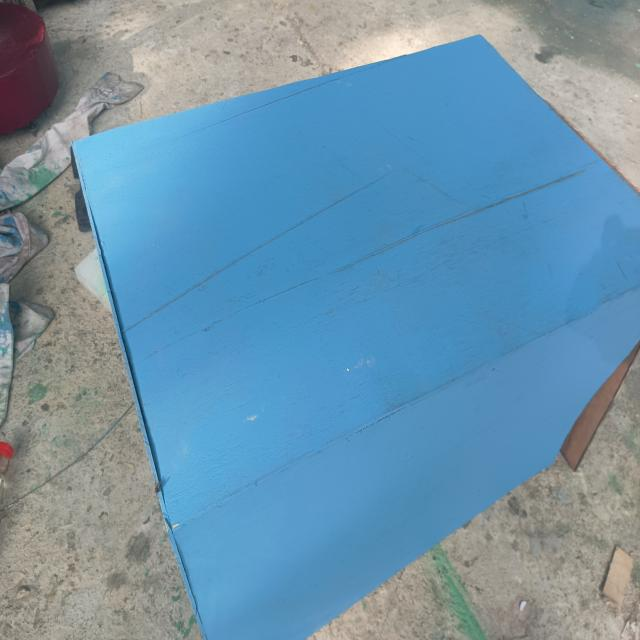blue_box: (62, 25, 628, 627)
